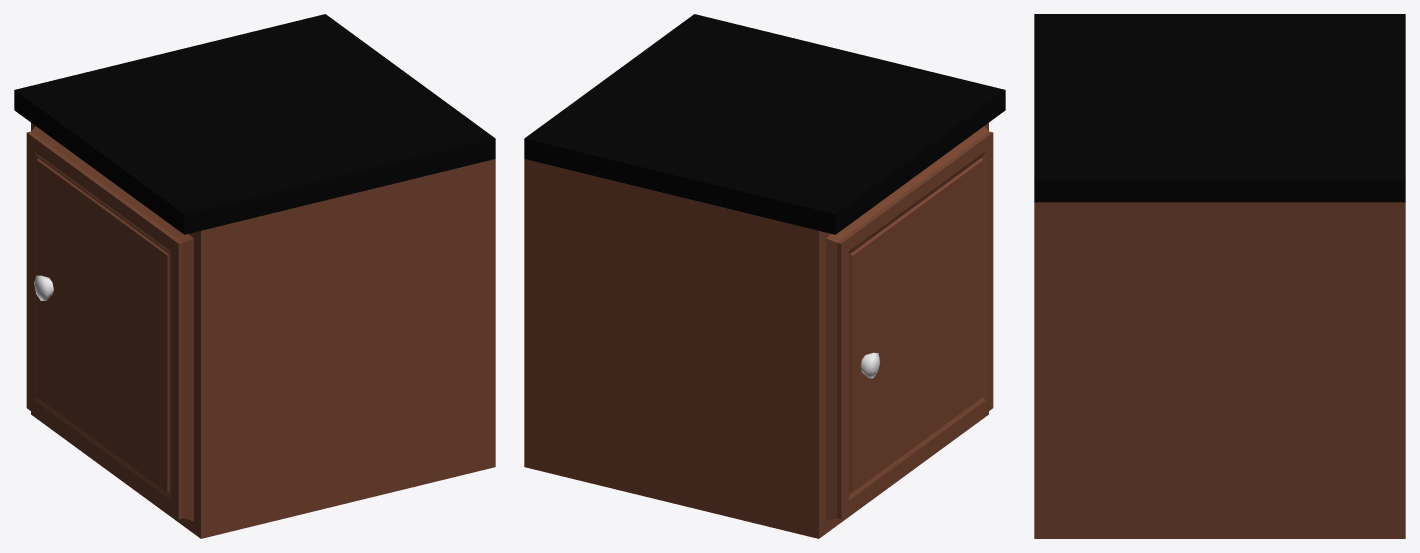
The model's file is cabinet_plain.fbx.
3 renders of one model, left to right at view 1: azimuth 30°, elevation 25°; view 2: azimuth 150°, elevation 25°; view 3: azimuth 270°, elevation 25°, orthographic. The views are drawn at different scales.
Parts seen in each view (by area): view 1: cabinet_plain; view 2: cabinet_plain; view 3: cabinet_plain.
Part boxes in pixels (left/top/right/bottom): cabinet_plain: left=14, top=14, right=495, bottom=538; cabinet_plain: left=524, top=14, right=1005, bottom=538; cabinet_plain: left=1034, top=14, right=1405, bottom=538.
Size of the model in its own units: 109 by 107 by 100.
